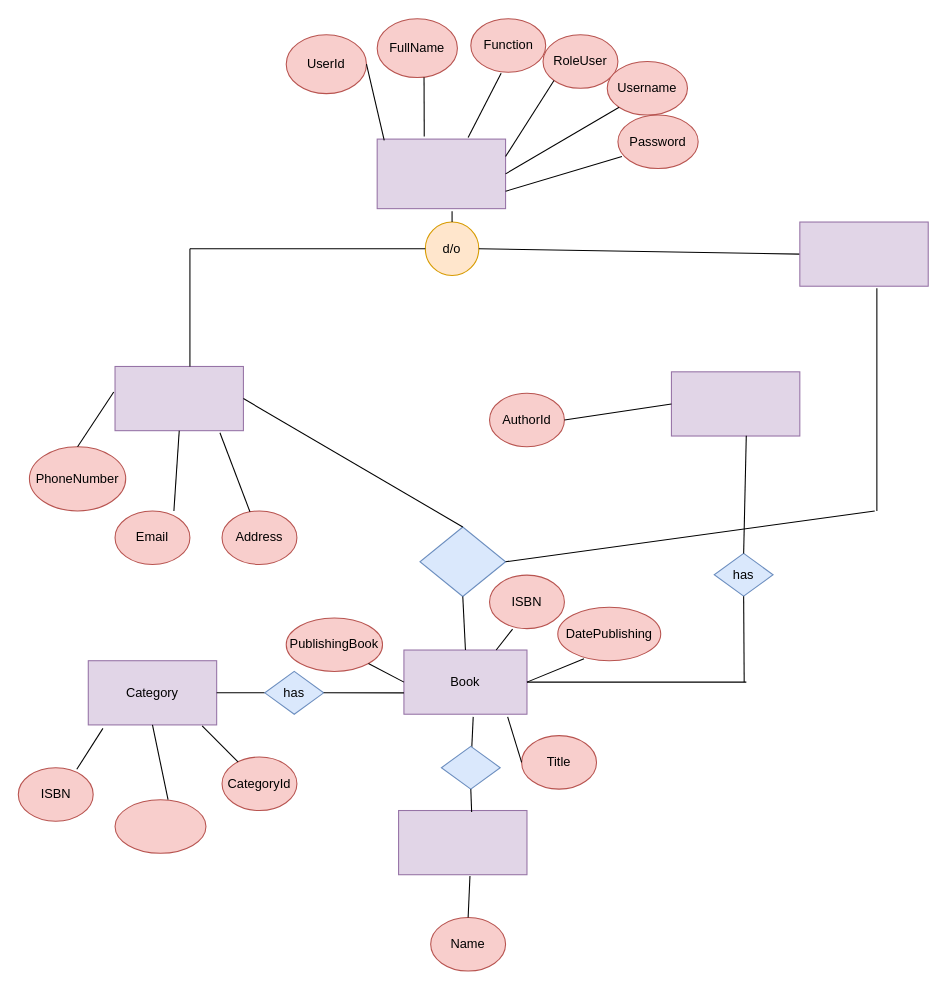
Image size: 948x990. Some labels were removed from this diagram. Here are the shapes that lost their labels. From the top down, the box of each, then its label:
(376, 138, 506, 209): MyUsers
(799, 221, 928, 286): Admin
(114, 365, 243, 431): NormalUser
(670, 371, 800, 436): Author
(419, 526, 506, 597): search
(440, 745, 500, 789): belongs
(114, 799, 206, 853): NameCategory
(398, 809, 527, 875): Library
